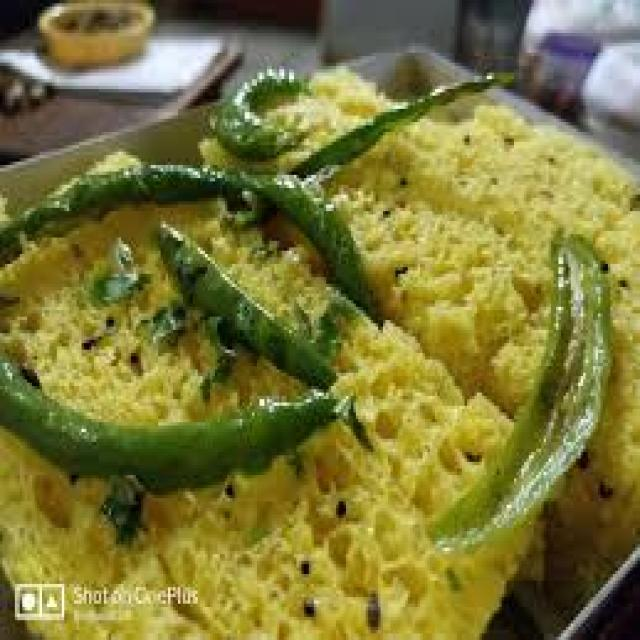DHOKLA: (0, 152, 537, 637), (207, 48, 638, 611)
